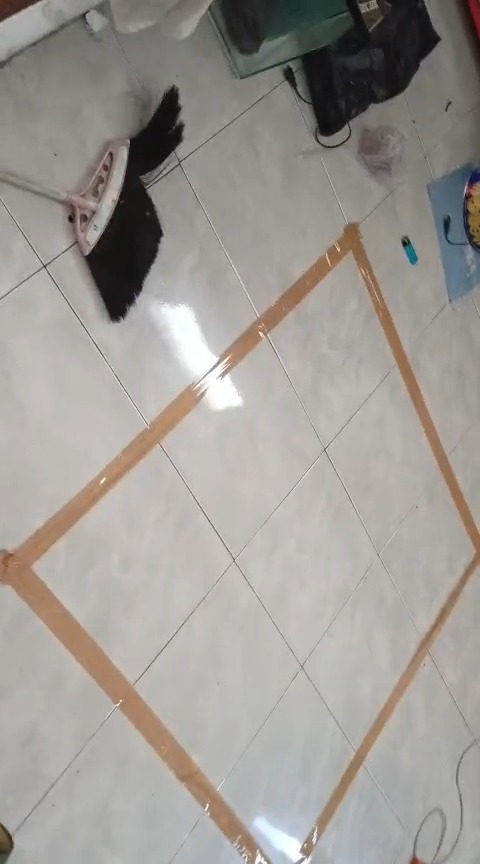floor marking: (1, 225, 479, 863)
